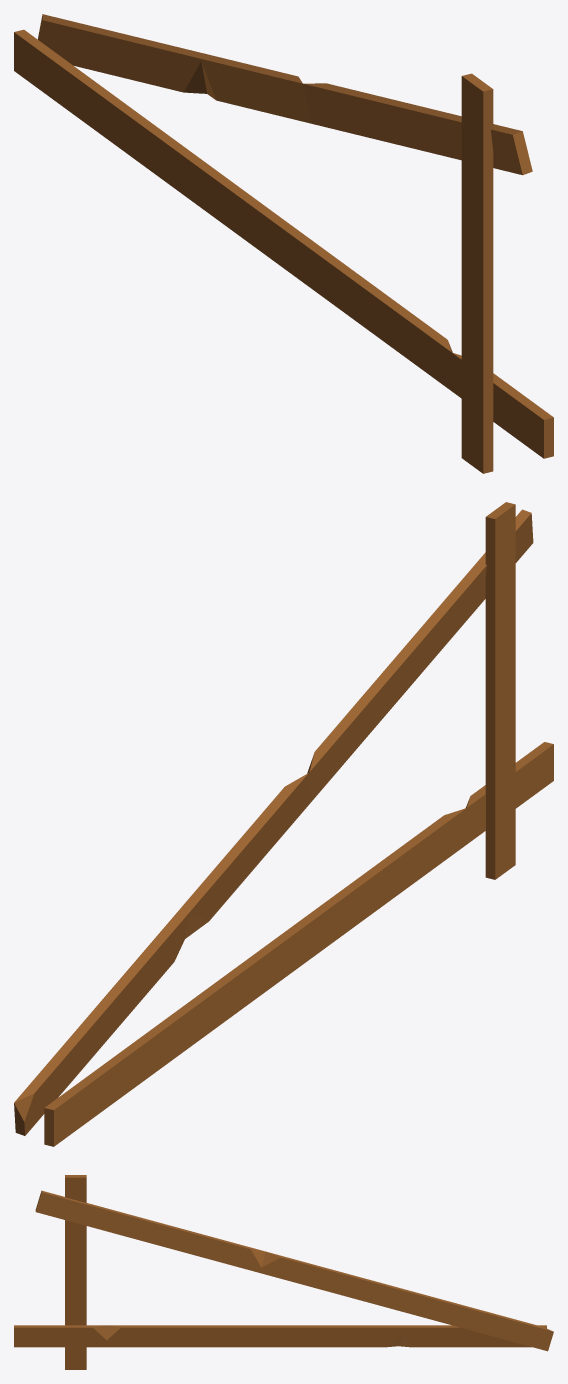
File: fence4.fbx
The picture shows the model from 3 angles, top to bottom: view 1: azimuth 30°, elevation 25°; view 2: azimuth 150°, elevation 25°; view 3: azimuth 270°, elevation 25°; orthographic projection. The views are drawn at different scales.
Visible parts, largest first — view 1: Cube.019; view 2: Cube.019; view 3: Cube.019.
Part boxes in pixels (x1,y1,x2,y2): Cube.019: (14,14,553,473); Cube.019: (14,502,553,1146); Cube.019: (14,1175,553,1369).
Size of the model in its own units: 26.64 by 197 by 501.
